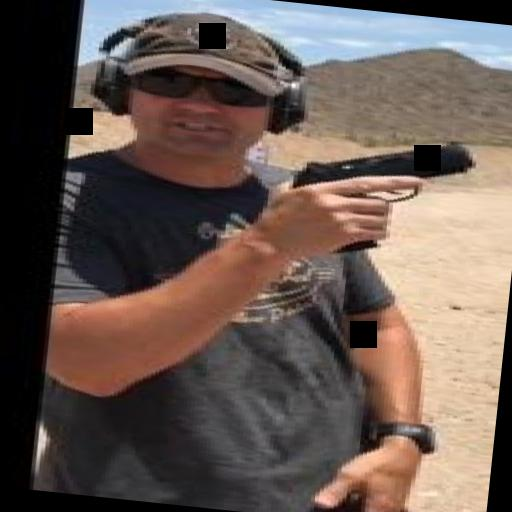Handgun: (283, 122, 482, 262)
